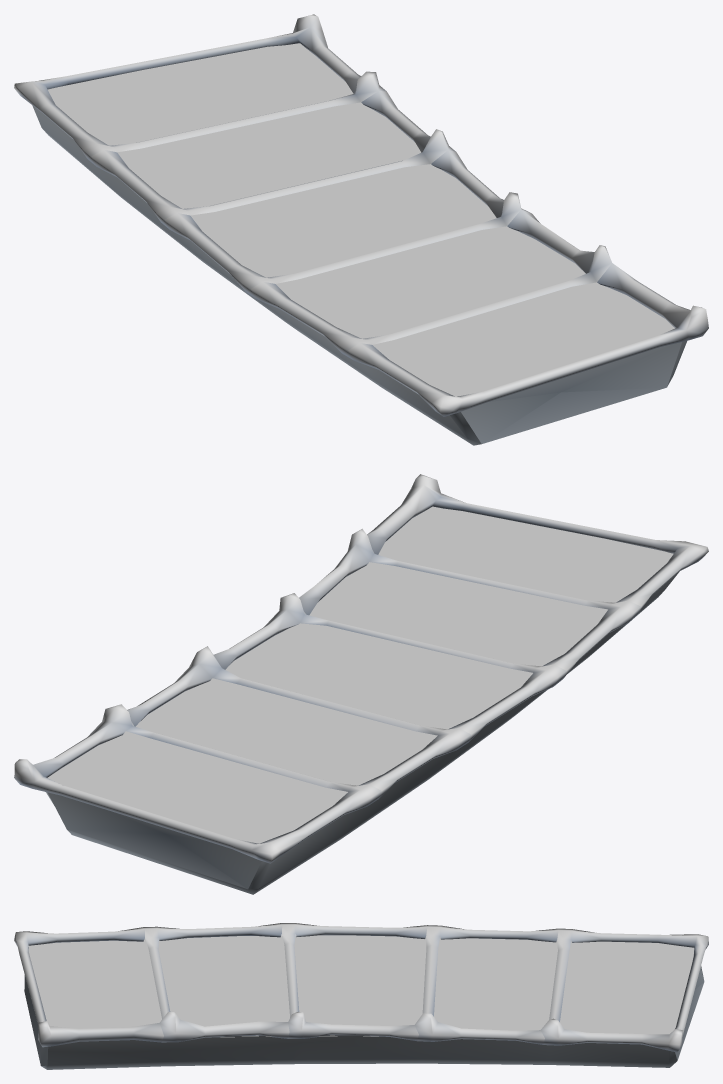
File: PlatformSpiralLarge.gltf
3 renders of one model, top to bottom at view 1: azimuth 30°, elevation 25°; view 2: azimuth 150°, elevation 25°; view 3: azimuth 270°, elevation 25°, orthographic. The views are drawn at different scales.
Parts seen in each view (by area): view 1: PlatformSpiralLargeMesh; view 2: PlatformSpiralLargeMesh; view 3: PlatformSpiralLargeMesh.
Part boxes in pixels (x1=…): PlatformSpiralLargeMesh: x1=14, y1=14, x2=708, y2=445; PlatformSpiralLargeMesh: x1=14, y1=474, x2=708, y2=894; PlatformSpiralLargeMesh: x1=14, y1=923, x2=708, y2=1069.
Size of what is drawn, in the model's own units: 6.04 by 1.48 by 14.44.
